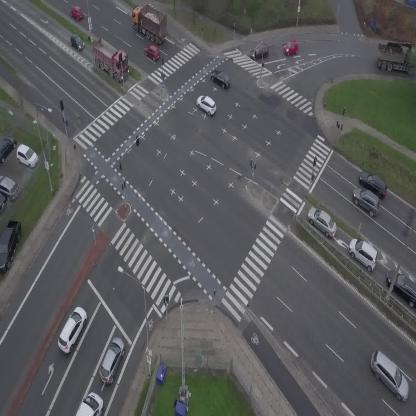car: (53, 304, 91, 355), (95, 335, 129, 386), (343, 234, 384, 273), (302, 203, 343, 241), (348, 182, 385, 218), (356, 167, 392, 200), (193, 92, 220, 117), (208, 67, 233, 90), (65, 32, 87, 54), (142, 42, 163, 63), (67, 4, 85, 22), (249, 45, 269, 60), (282, 40, 300, 56)
lorry: (83, 33, 137, 85), (378, 40, 416, 73), (75, 392, 103, 416)
